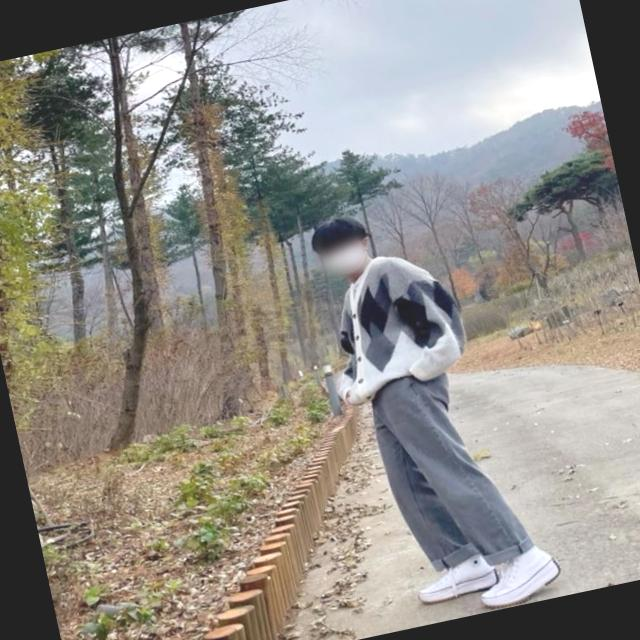cardigan: (367, 355, 537, 587), (314, 239, 472, 403)
